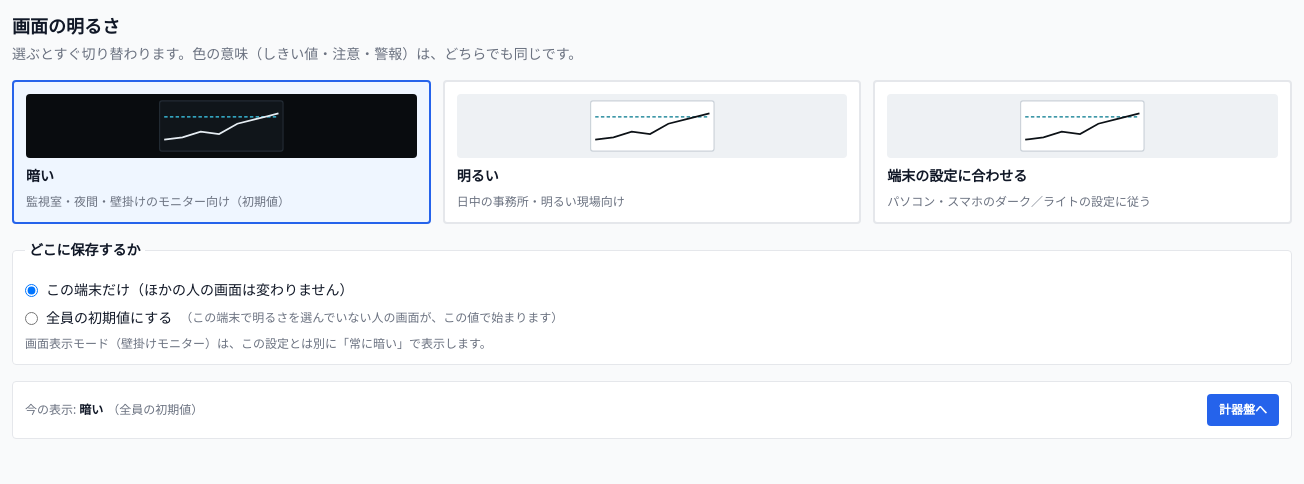
it: DisplaySettingsPanel（画面の明るさ） › 全員の初期値を保存できなかったら、理由を出し、この端末の選択は変えない
Step 1. Click the radio button labelled "全員の初期値にする （この端末で明るさを選んでいない人の画面が、この値で始まります）" → click(32, 318), box [25,312,38,324]
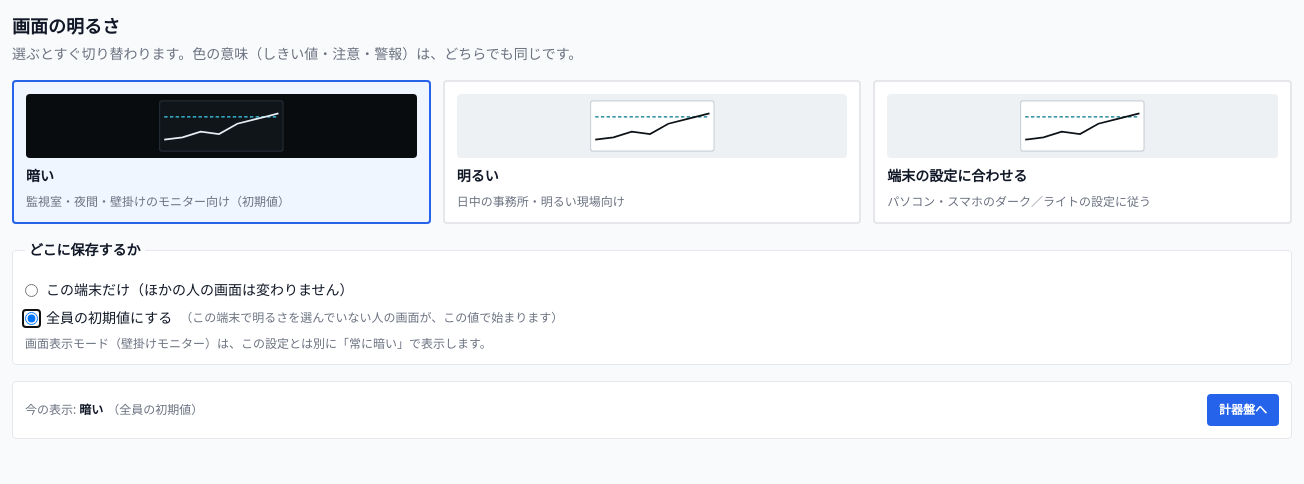
Step 2. Click the radio button labelled "明るい 日中の事務所・明るい現場向け" → click(652, 152), box [443,80,861,224]
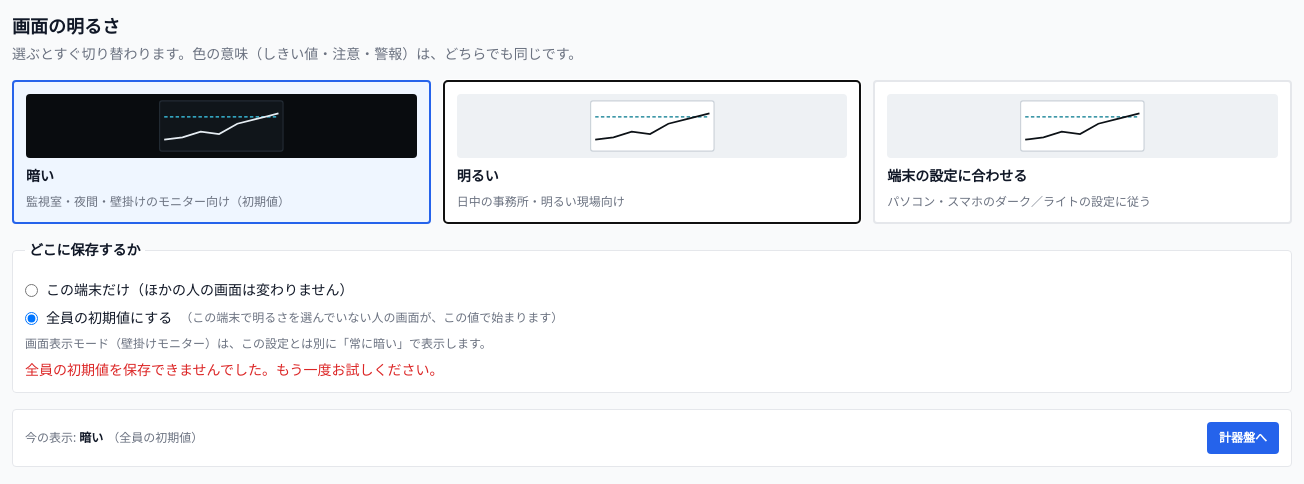
Now the message shows "全員の初期値を保存できませんでした", box [25,360,444,379]
